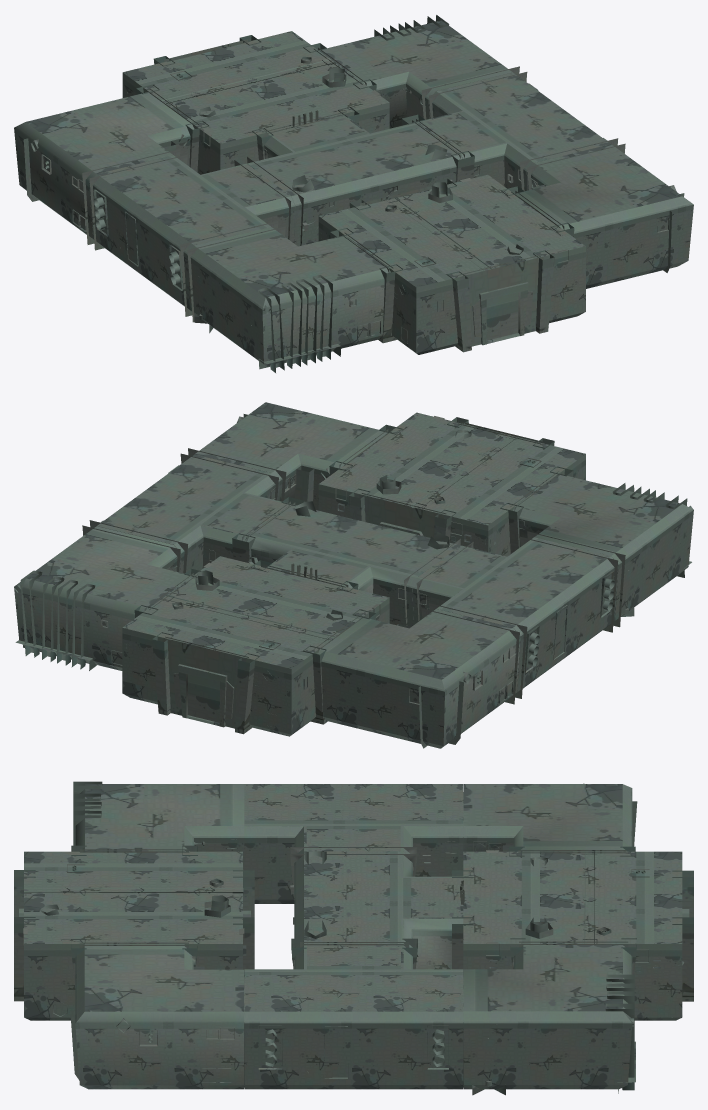
Rendered from Combined_Mesh_root_scene__21_87b8b529__zombies2_diffuse_08_b0bdab26_c1f257.obj.
3 views of the same model, one above another, from view 1: azimuth 30°, elevation 25°; view 2: azimuth 150°, elevation 25°; view 3: azimuth 270°, elevation 25° (orthographic). The views are drawn at different scales.
Size of the model in its own units: 52.07 by 9.64 by 62.1.
148 materials, 148 textured.
